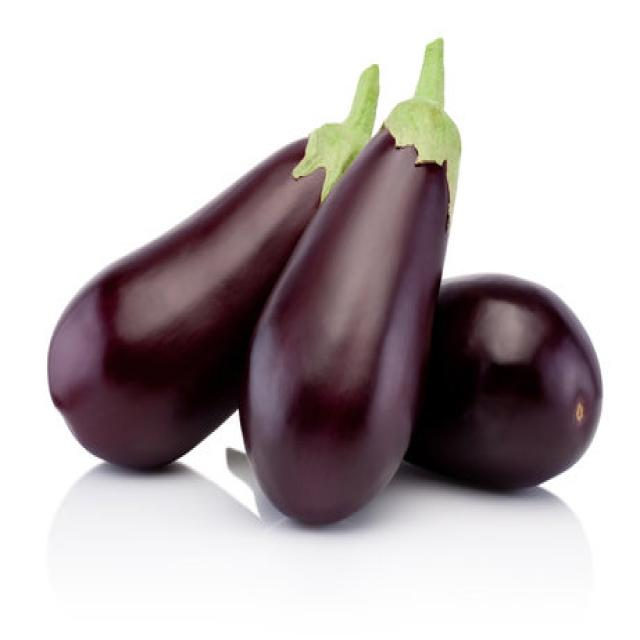Eggplant: (46, 61, 380, 471), (237, 36, 461, 524), (402, 270, 602, 491)
